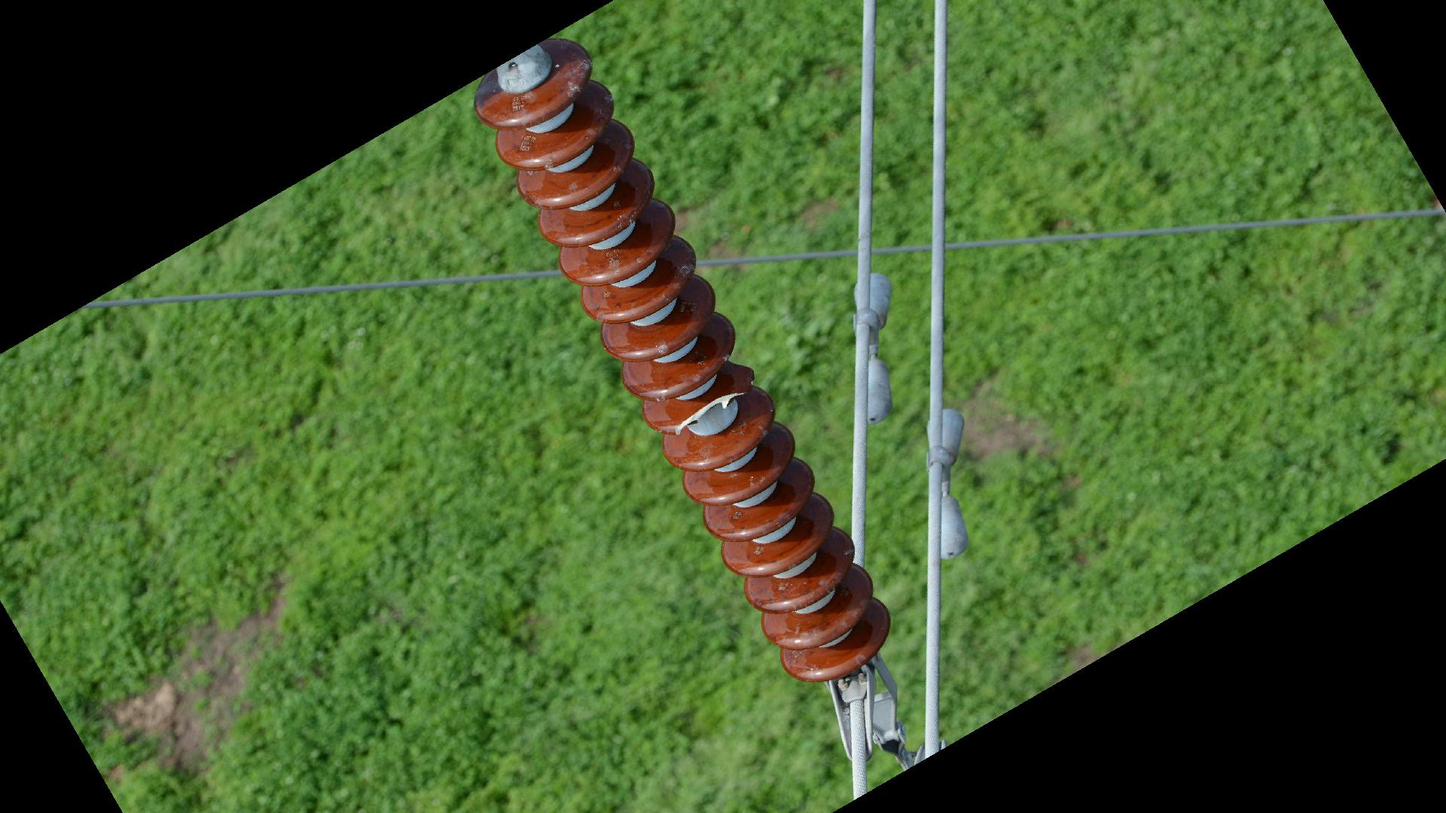insulator: (470, 33, 898, 688)
insulator_breakage: (667, 385, 752, 441)
